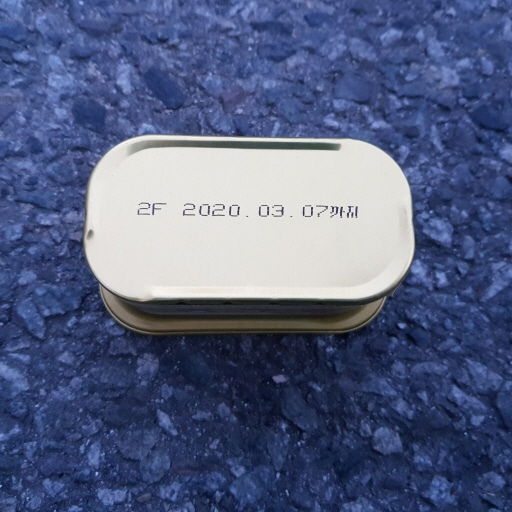Metal_2: (79, 129, 417, 340)
